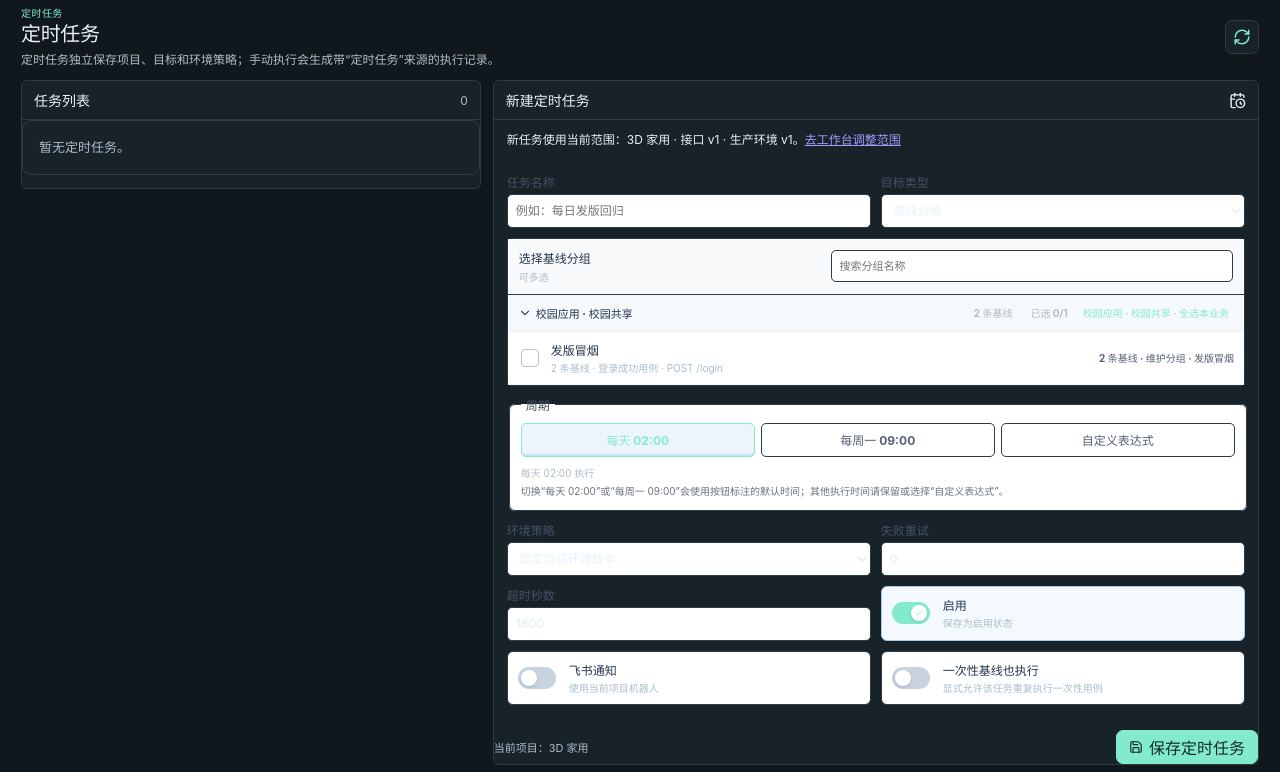
ScheduledJobsView › clears a resolved validation message when the user changes target type
This screenshot has width=1280, height=772.
Type "一次性门禁检查" into the field with test id "scheduled-name". click: (689, 211)
box: 507,194 -> 871,228
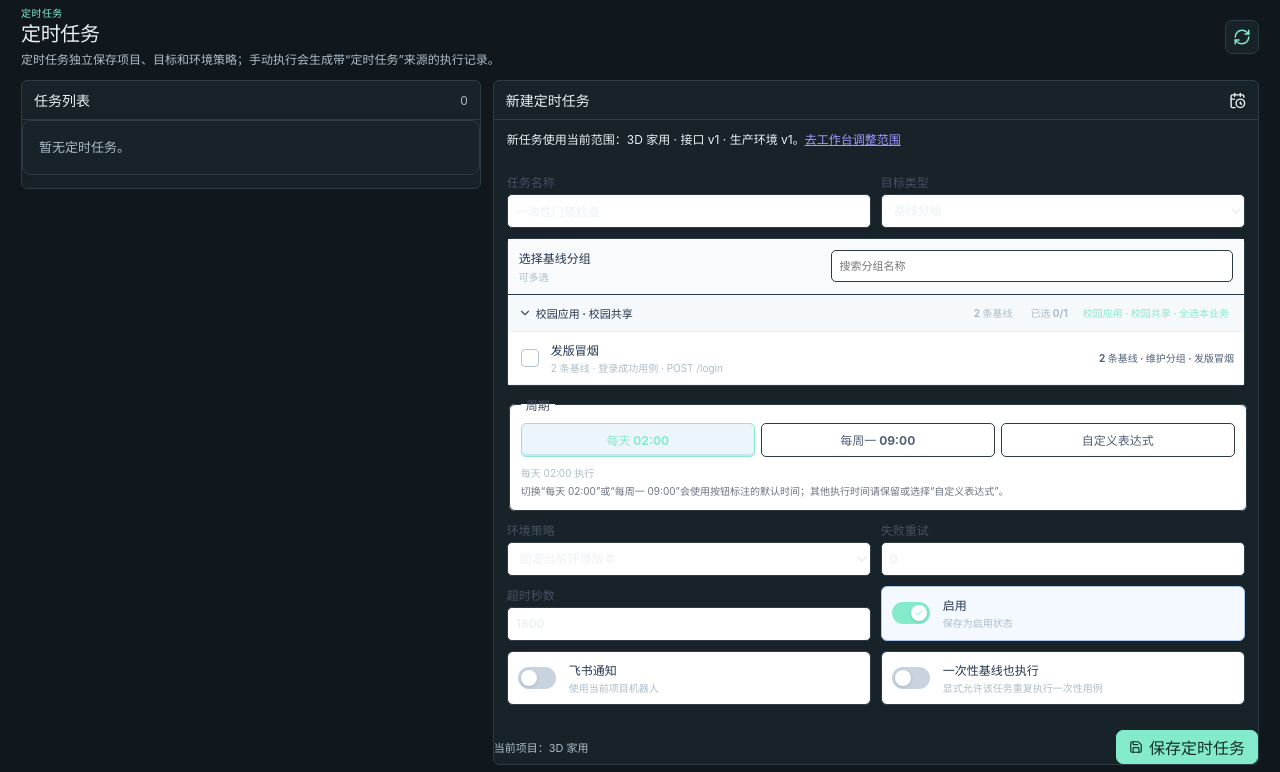
Click the button with test id "scheduled-target-option". click: (575, 350)
box: 508,332 -> 1244,384
(page scrolled)
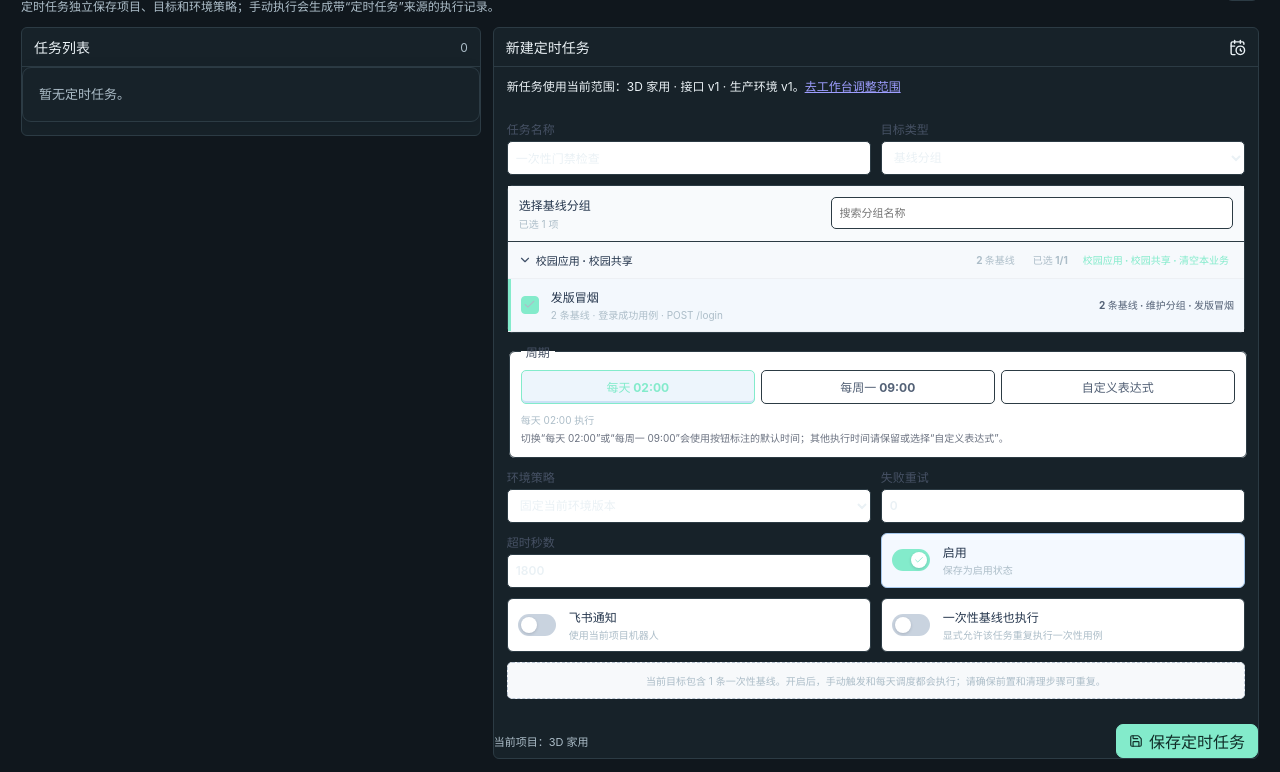
Click the button with test id "scheduled-save". click: (1187, 741)
box: 1116,724 -> 1258,758
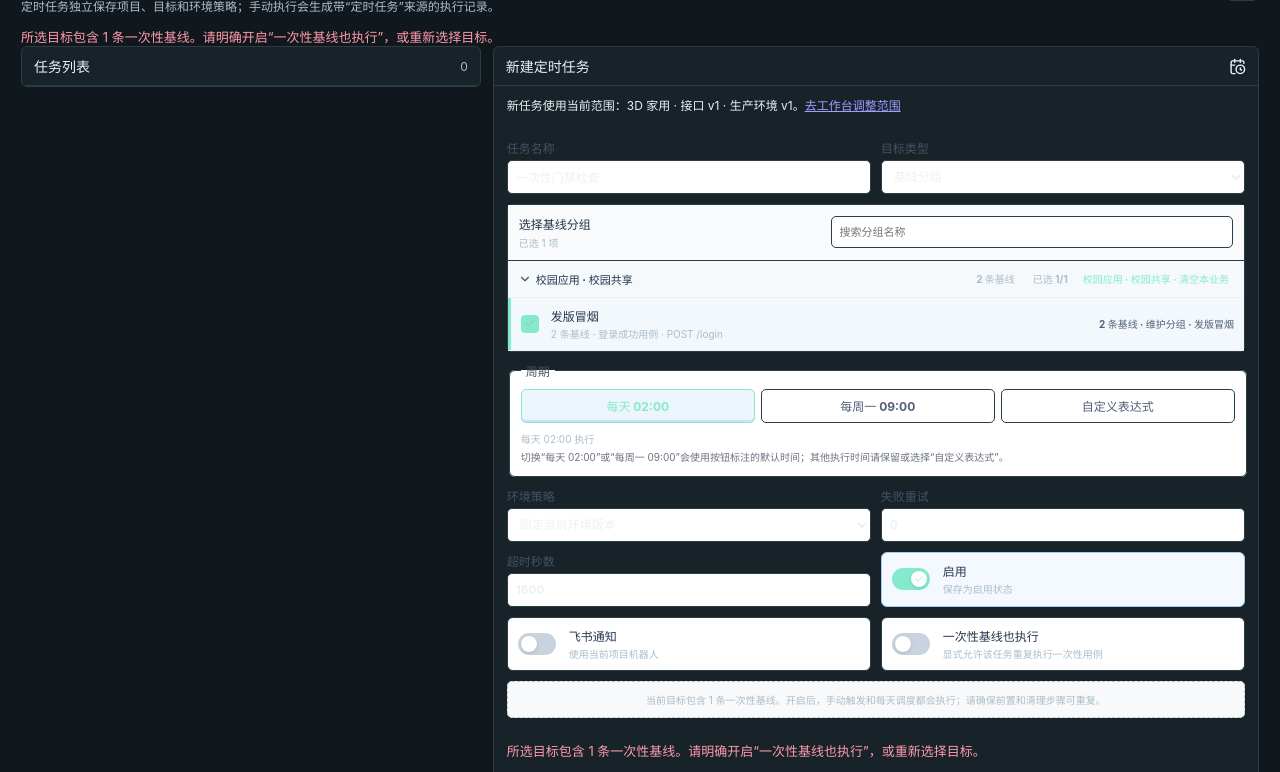
Result: the message with test id "scheduled-editor-feedback" shows "请明确开启" at 507,743 -> 986,759
Select "多个用例" in the dropdown with test id "scheduled-target-type". click: (1063, 177)
box: 881,160 -> 1245,194
(page scrolled)
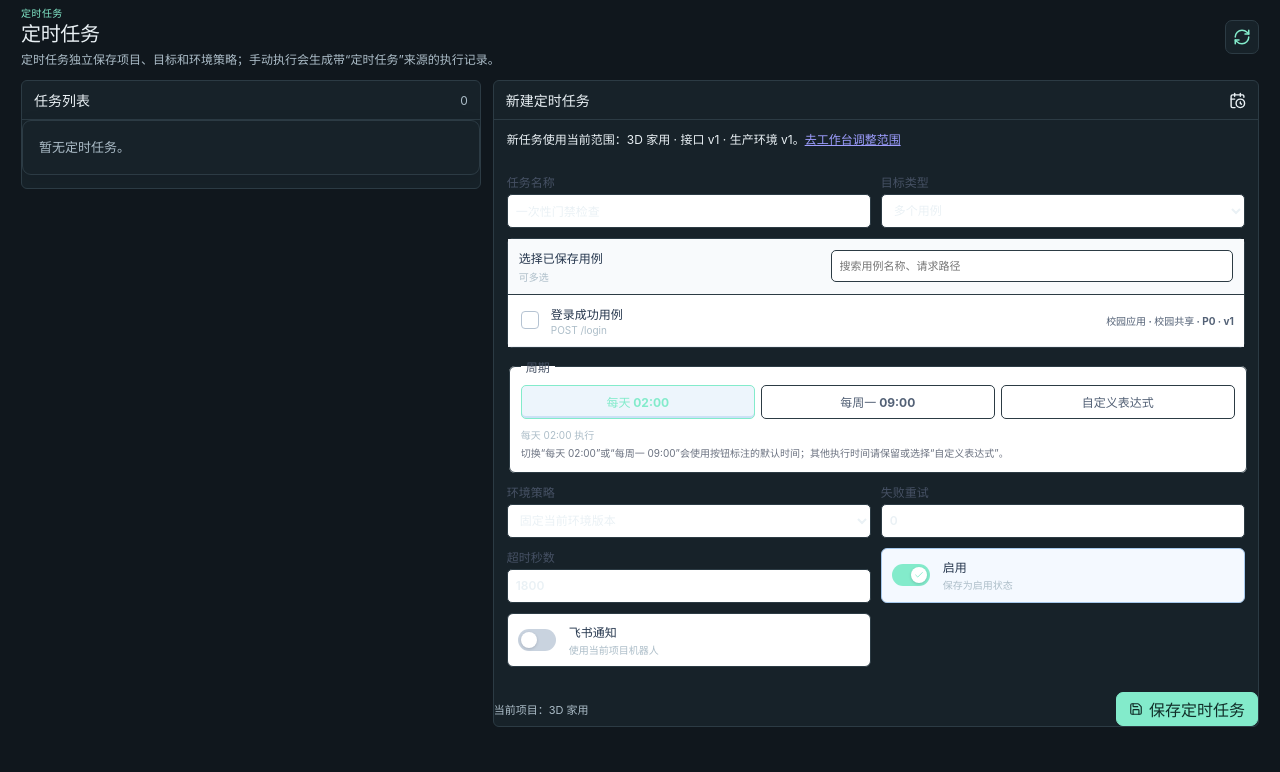
Result: the text "请明确开启“一次性基线也执行”" is gone
